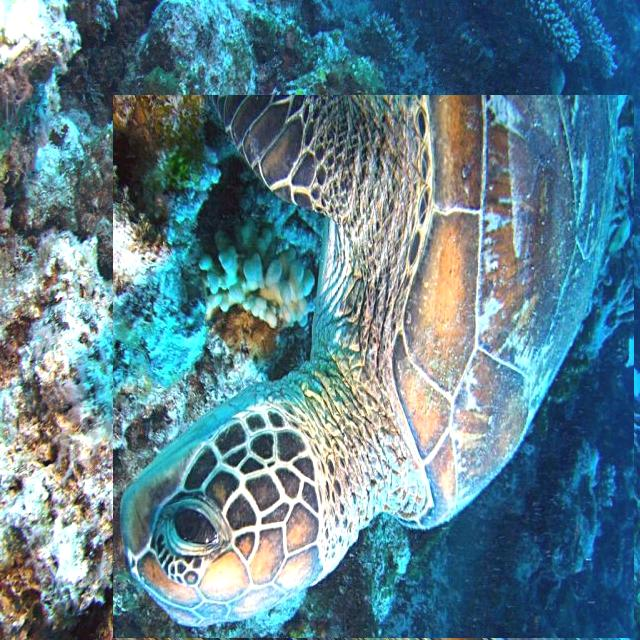Sea turtle: (114, 96, 636, 640)
